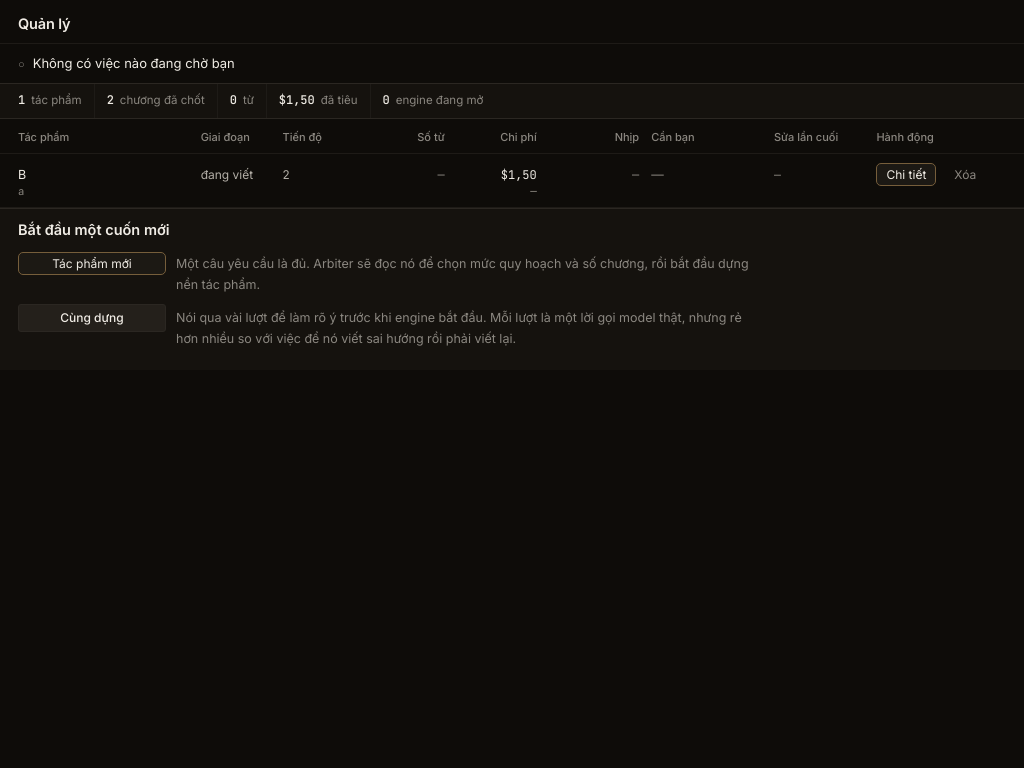
bấm Xóa mở hộp xác nhận, và hộp nói ra CÁI MẤT
This screenshot has width=1024, height=768.
Click the button "Xóa": (965, 175) [944,163,986,186]
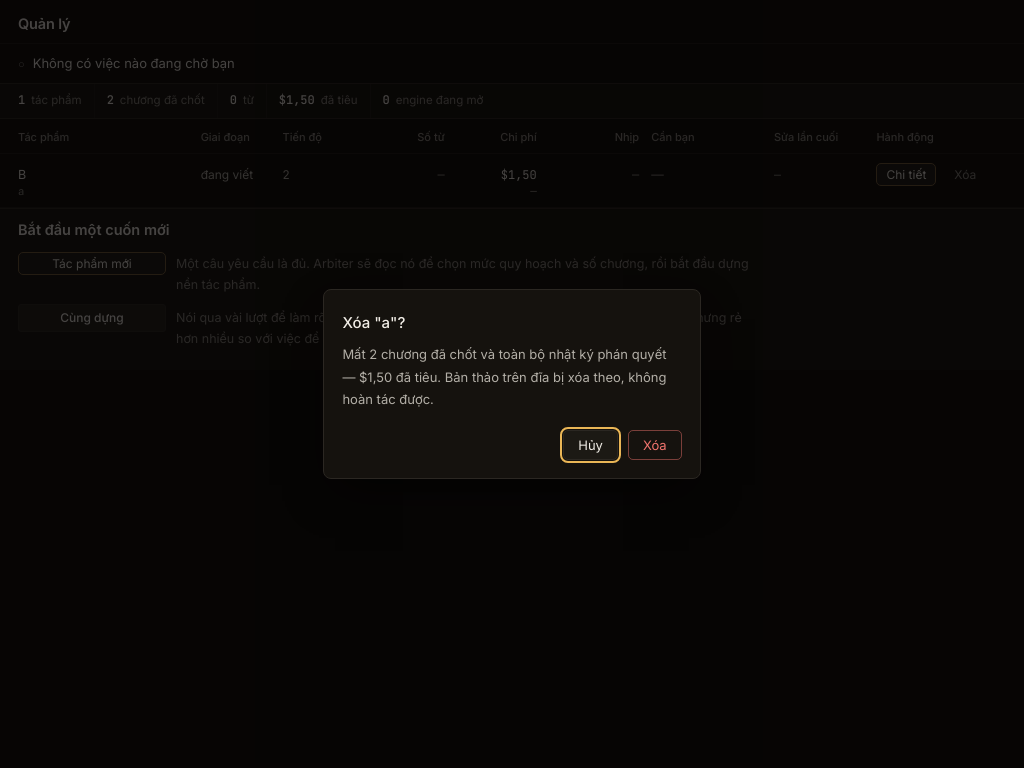
Expected: the dialog with class "hopxn" shows "2 chương", [342,346,666,407]
